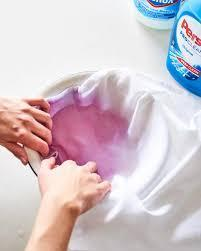oil: (49, 106, 128, 180)
